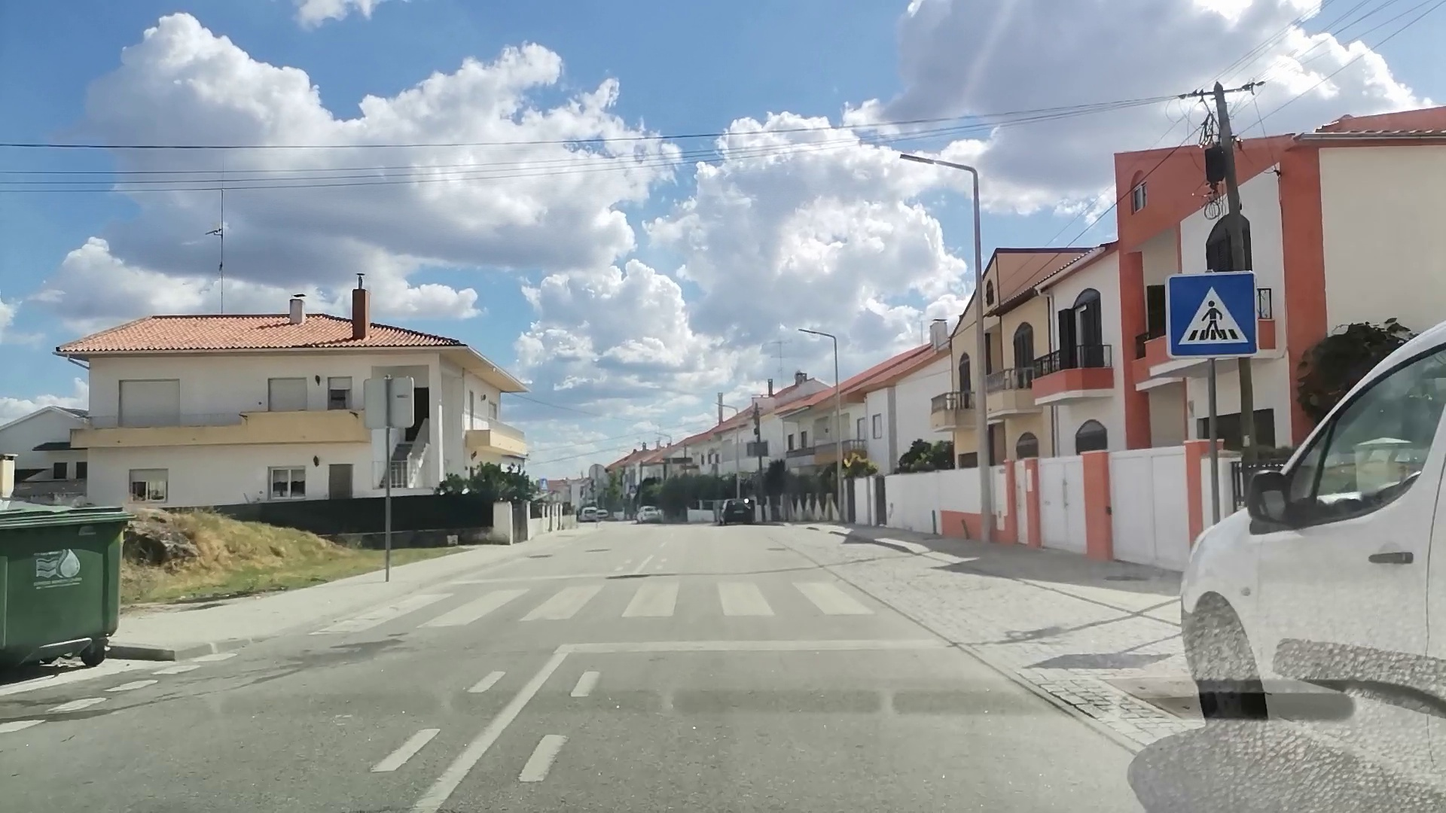Stairs: (315, 575, 880, 630)
